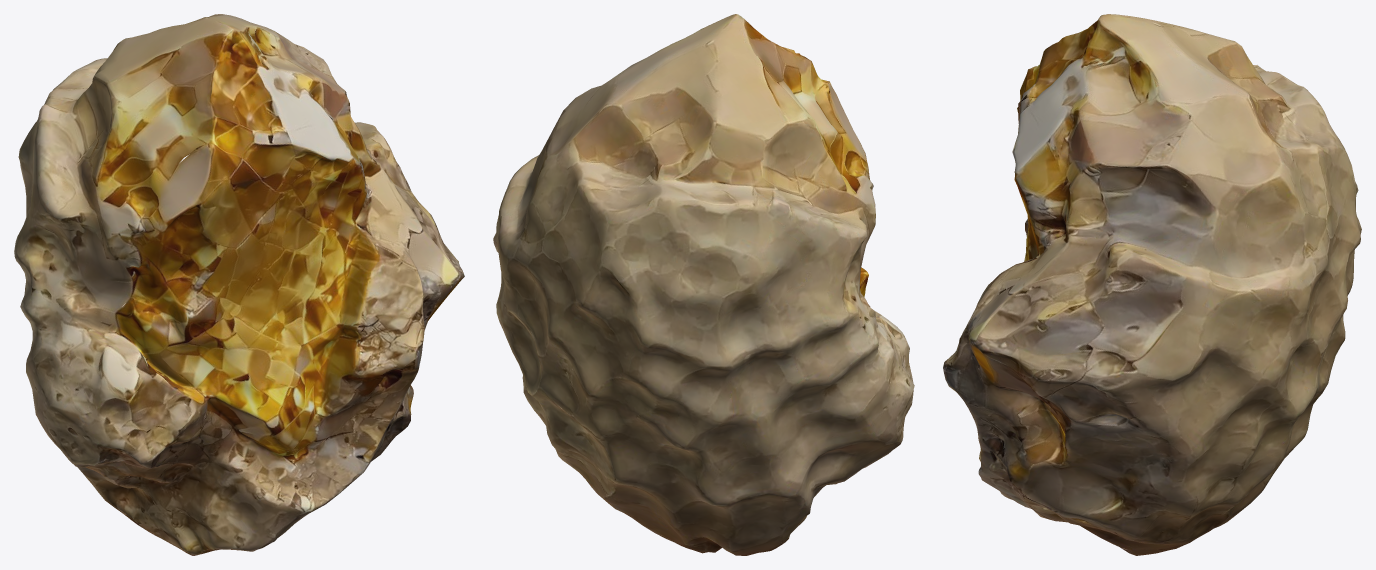
Rendered from stone_earth.glb.
The picture shows the model from 3 angles, left to right: view 1: azimuth 30°, elevation 25°; view 2: azimuth 150°, elevation 25°; view 3: azimuth 270°, elevation 25°; orthographic projection. The views are drawn at different scales.
Visible parts, largest first — view 1: tripo_node_4246e1a1; view 2: tripo_node_4246e1a1; view 3: tripo_node_4246e1a1.
Part boxes in pixels (box(x1,y1,x2,y2)): tripo_node_4246e1a1: box(14, 14, 464, 555); tripo_node_4246e1a1: box(493, 14, 914, 555); tripo_node_4246e1a1: box(943, 14, 1361, 555).
Bounding box in the file's own units: 75.83 × 97.8 × 70.33.
1 material, 1 textured.
